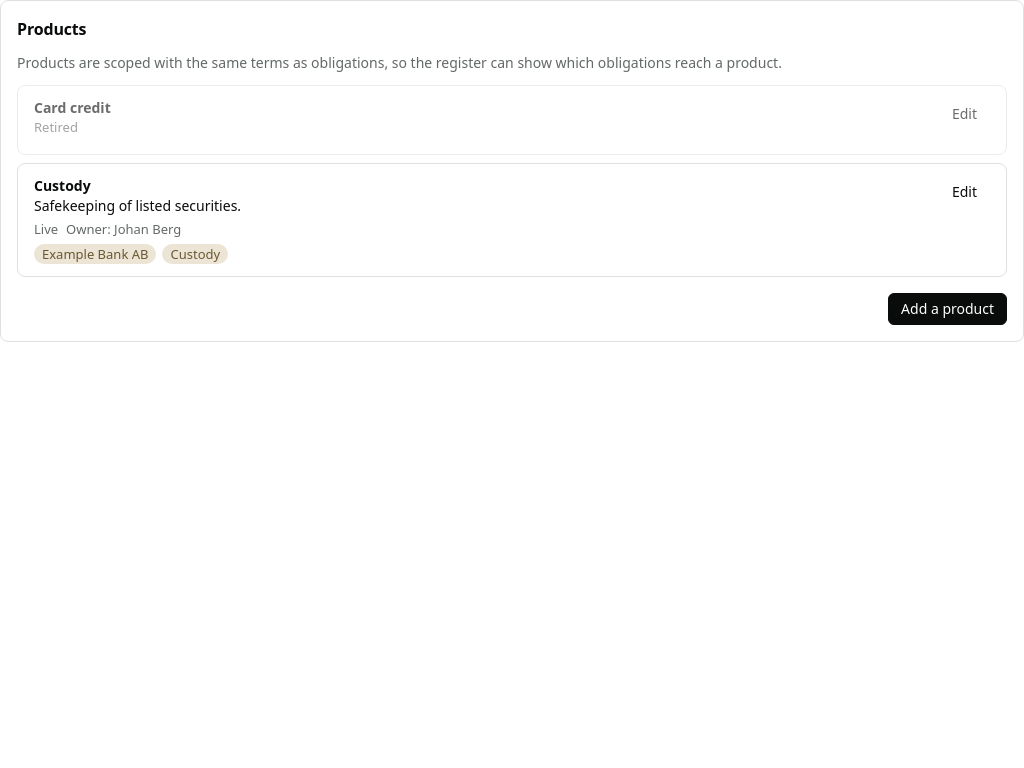
Test case: products › changes only what moved, with the version it read
Check: the text "Safekeeping of listed securities." is shown, box x1=34 y1=196 x2=241 y2=215
Click the button with aria-label "Edit Custody".
click(964, 192)  # box x1=939 y1=176 x2=990 y2=208
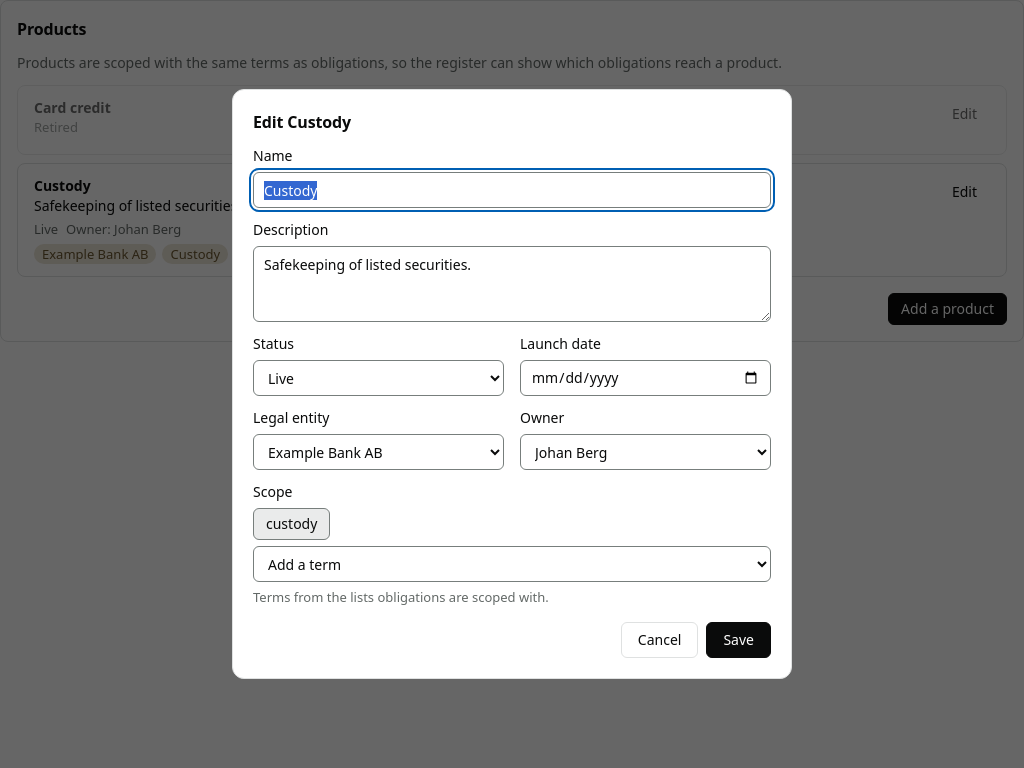
Select "Retired" in the dropdown labelled "Status" at point(378, 378), box x1=253 y1=360 x2=504 y2=396
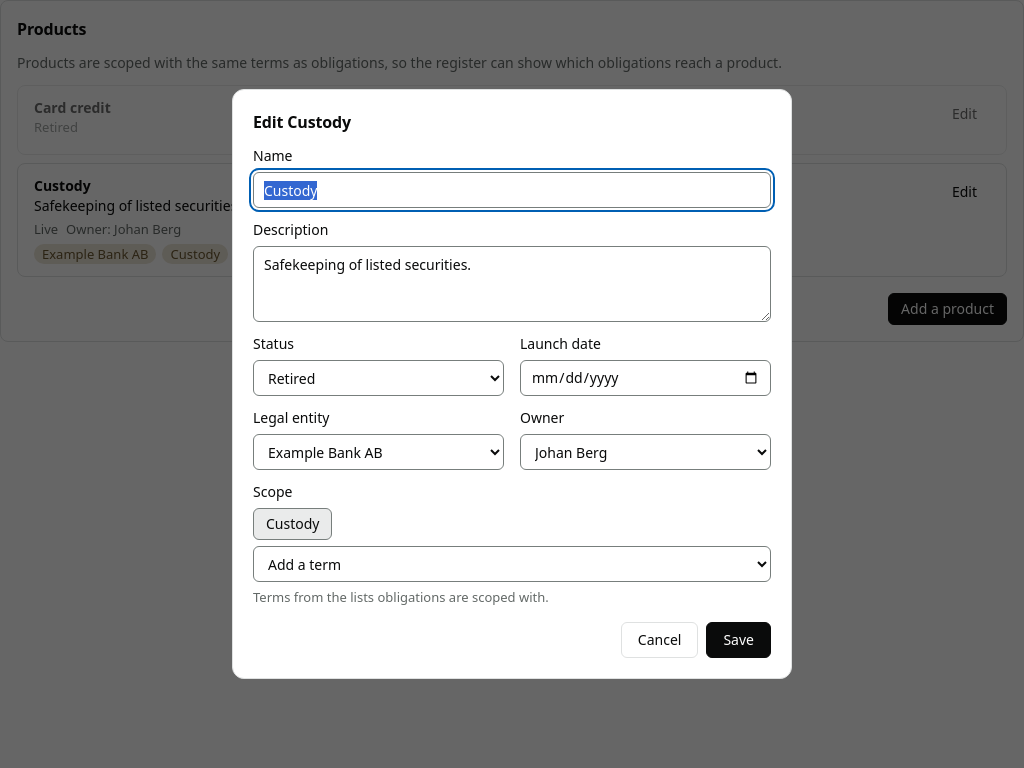
Click the button "Save".
click(739, 640)  # box x1=706 y1=622 x2=771 y2=658
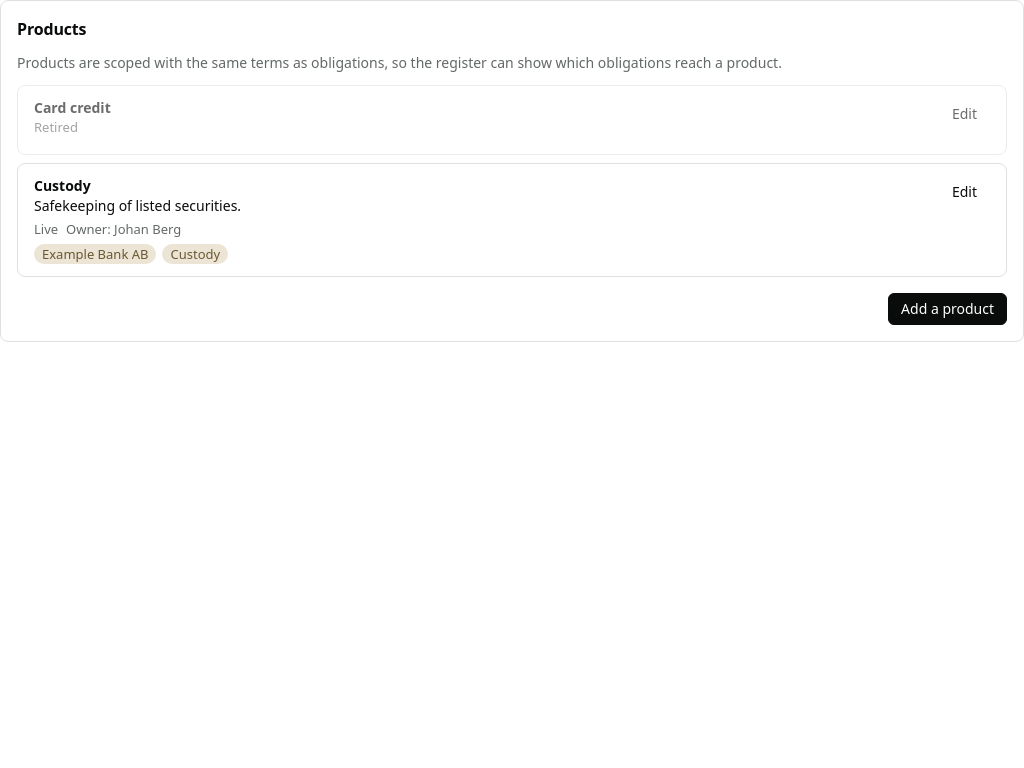
Check: the dialog is gone
